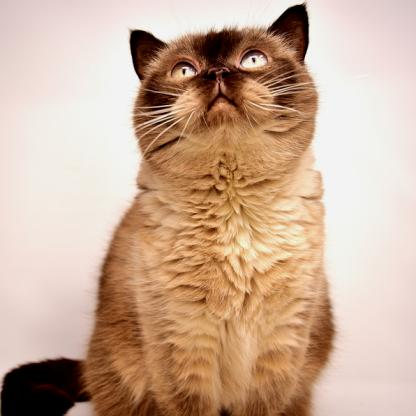cat: (0, 3, 336, 415)
